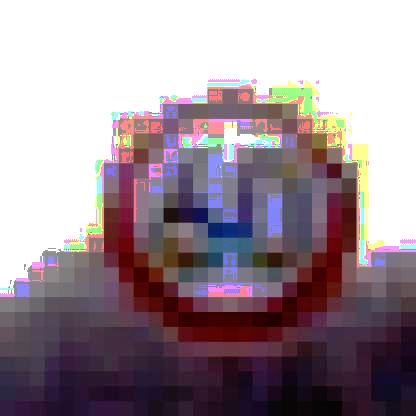Speed Limit -60-: (98, 86, 358, 348)
